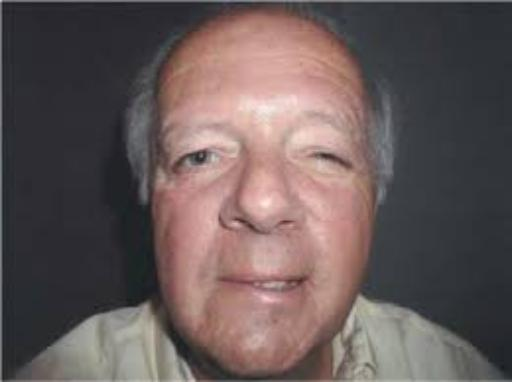left_eye: (297, 151, 354, 170)
left_lip_corner: (298, 270, 323, 288)
right_eye: (175, 150, 233, 172)
right_lip_corner: (206, 272, 239, 290)
